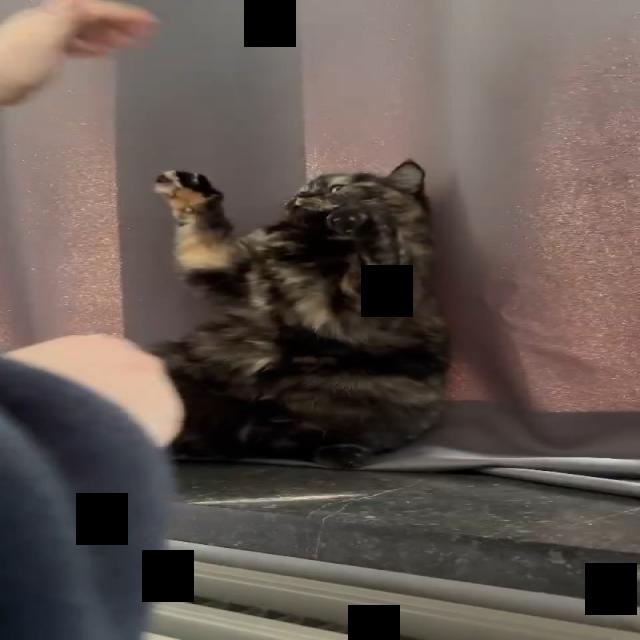authorized: (147, 158, 452, 468)
